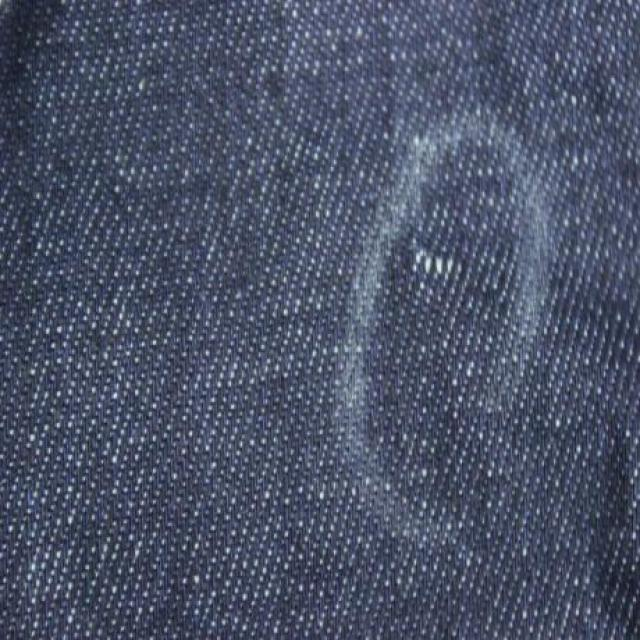stains: (392, 238, 478, 294)
